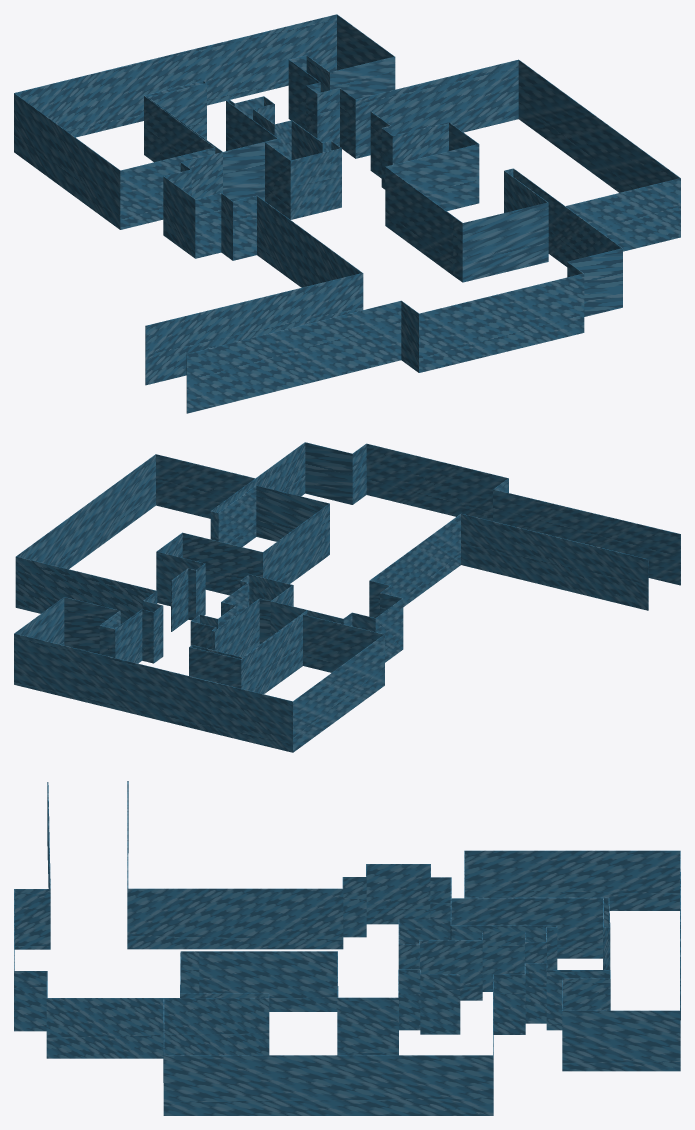
Rendered from escenario final.fbx.
The picture shows the model from 3 angles, top to bottom: view 1: azimuth 30°, elevation 25°; view 2: azimuth 150°, elevation 25°; view 3: azimuth 270°, elevation 25°; orthographic projection. The views are drawn at different scales.
Parts seen in each view (by area): view 1: Plano; view 2: Plano; view 3: Plano.
Boxes of the visible parts, x1,y1,x2,y2 form: Plano: [14, 14, 680, 413]; Plano: [14, 442, 680, 752]; Plano: [14, 781, 680, 1115].
Size of the model in its own units: 1052 by 108 by 1079.
